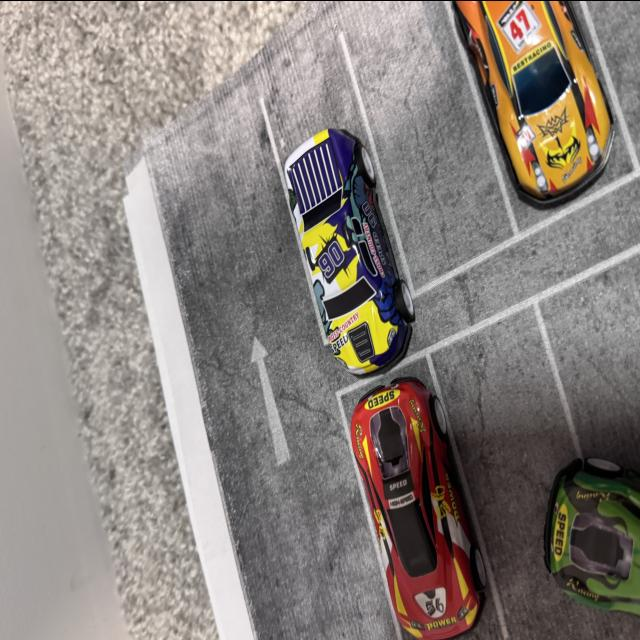Car: (443, 0, 640, 254), (262, 120, 410, 388), (506, 395, 640, 640), (348, 344, 457, 640)
